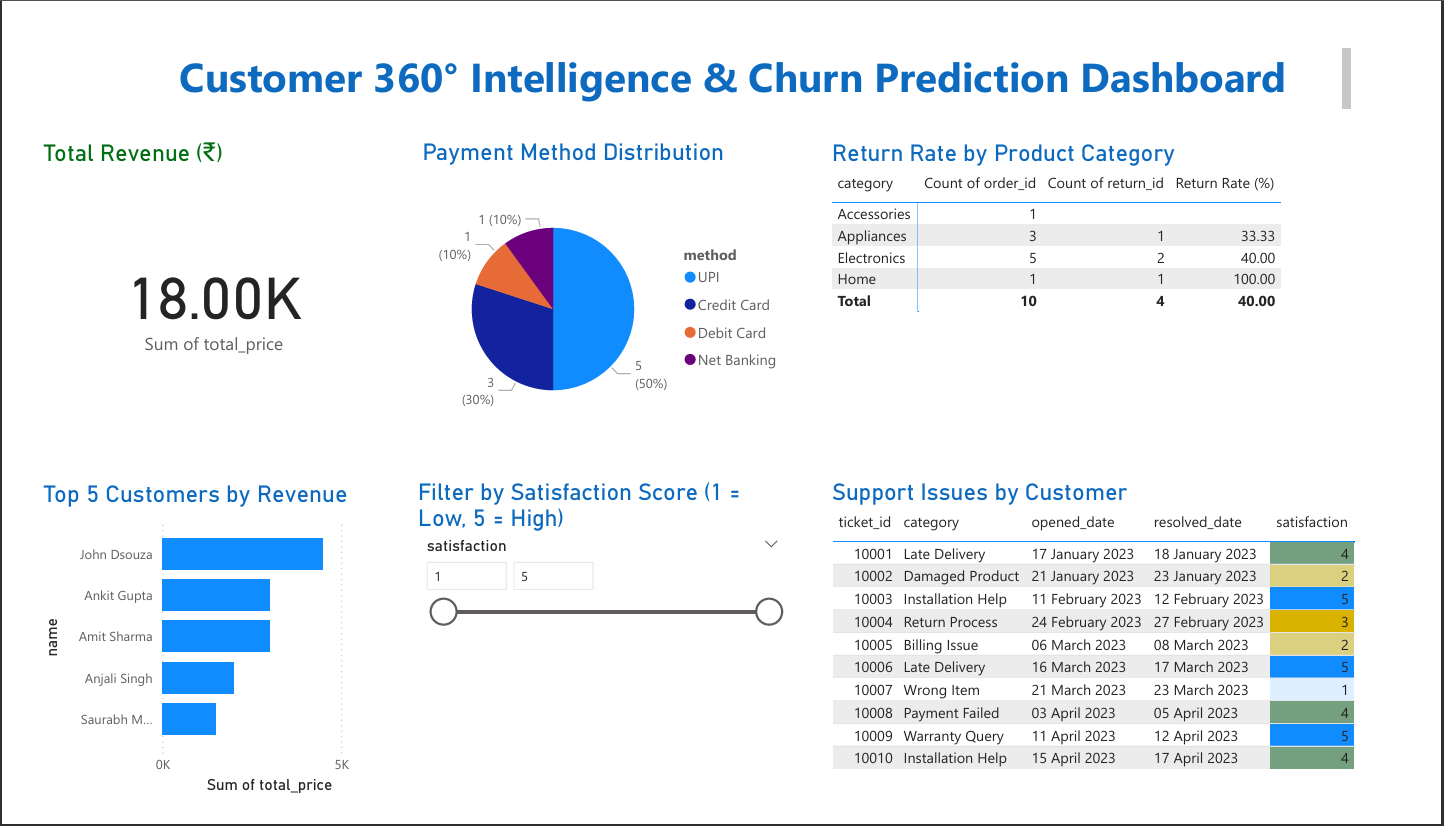

The page's visual inventory and layout, read from the dashboard file:
{"tool":"powerbi","page":{"name":"Page 1","canvas":[1280,720],"ordinal":0},"visuals":[{"type":"card","title":"Total Revenue (₹)","fields":{"Values":["customer360_db orders.total_price"]},"box":[9.4,109.6,325,279.7],"z":0},{"type":"barChart","title":"Top 5 Customers by Revenue","fields":{"Category":["customer360_db customers.name"],"Y":["customer360_db orders.total_price"]},"box":[9.4,427.1,325,292.9],"z":1000},{"type":"pieChart","title":"Payment Method Distribution","fields":{"Category":["customer360_db payments.method"],"Y":["customer360_db payments.payment_id"]},"box":[359.1,111.5,345.8,289.1],"z":2000},{"type":"pivotTable","title":"Return Rate by Product Category","fields":{"Rows":["customer360_db products.category"],"Values":["customer360_db orders.order_id","customer360_db returns.return_id","customer360_db customers.Return Rate (%)"]},"box":[737,111.5,504.6,289.1],"z":3000},{"type":"slicer","title":"Filter by Satisfaction Score (1 = Low, 5 = High)","fields":{"Values":["customer360_db support_tickets.satisfaction"]},"box":[355.3,425.2,349.6,294.8],"z":4000},{"type":"tableEx","title":"Support Issues by Customer","fields":{"Values":["customer360_db support_tickets.ticket_id","customer360_db support_tickets.category","customer360_db support_tickets.opened_date","customer360_db support_tickets.resolved_date","customer360_db support_tickets.satisfaction"]},"box":[737,425.2,542.4,294.8],"z":5000},{"type":"textbox","box":[83.2,22.7,1143.3,71.8],"z":8000}]}

Visuals, with their boxes in screenshot pixels (x1, y1, x2, y2), scaled from the page's 1280x720 canvas onto the 1444x826 screenshot:
"Total Revenue (₹)" card: bbox=[11, 126, 377, 447]
"Top 5 Customers by Revenue" barChart: bbox=[11, 490, 377, 825]
"Payment Method Distribution" pieChart: bbox=[405, 128, 795, 460]
"Return Rate by Product Category" pivotTable: bbox=[831, 128, 1401, 460]
"Filter by Satisfaction Score (1 = Low, 5 = High)" slicer: bbox=[401, 488, 795, 825]
"Support Issues by Customer" tableEx: bbox=[831, 488, 1443, 825]
textbox: bbox=[94, 26, 1384, 108]
